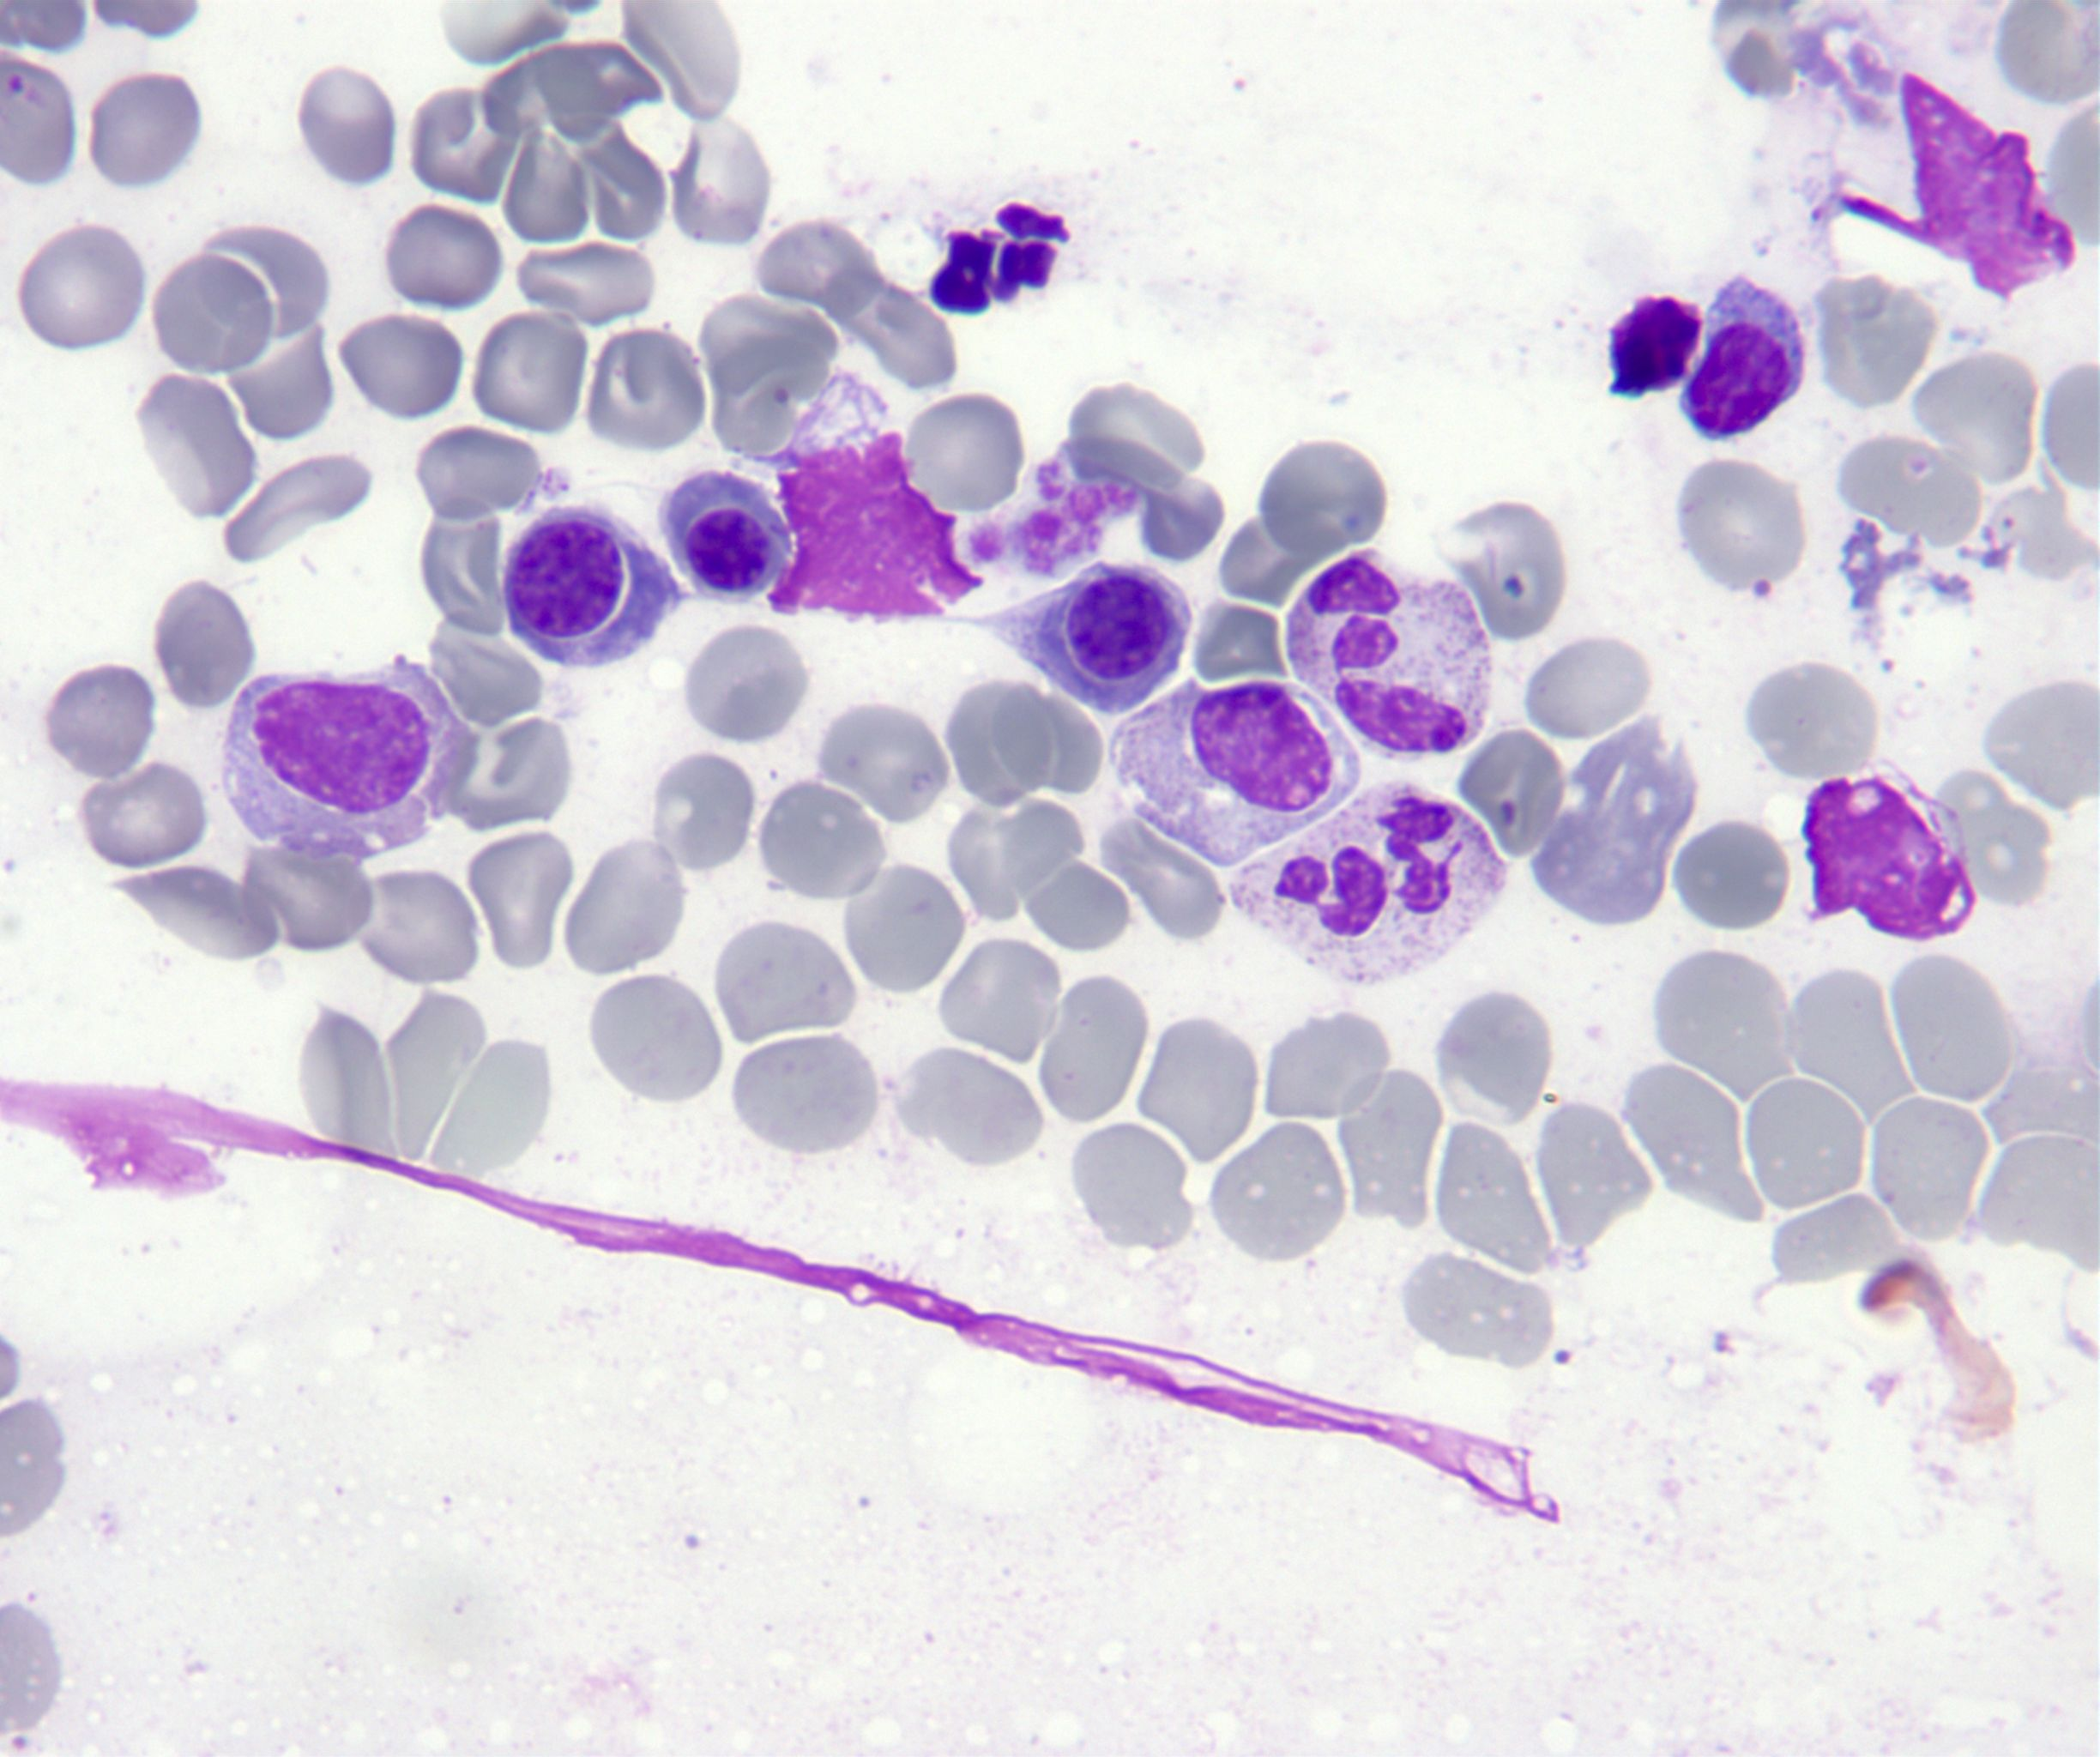23: (973, 562, 1191, 715), (502, 504, 689, 668)
24: (659, 471, 792, 605)
32: (1680, 277, 1803, 443)
4: (223, 663, 476, 862), (1108, 675, 1362, 867)
6: (1228, 780, 1509, 986), (1285, 546, 1493, 762)
x: (1833, 72, 2074, 302), (767, 370, 982, 626), (1805, 776, 1976, 940), (931, 202, 1069, 316), (1610, 293, 1704, 400)
